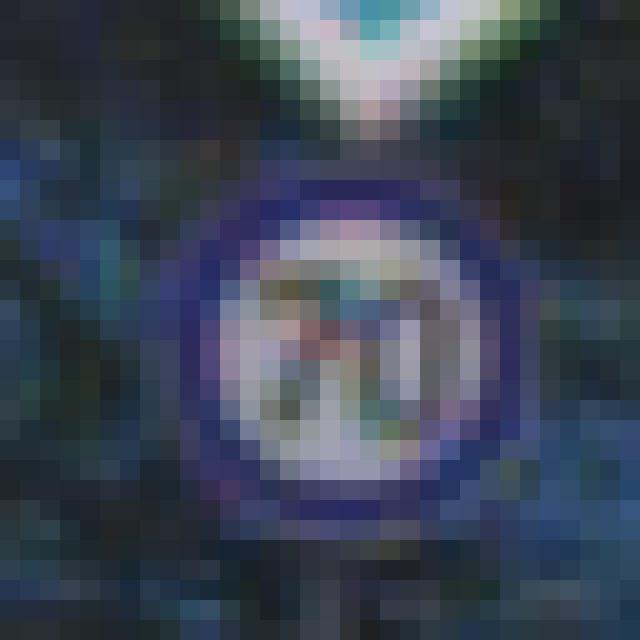SPEED LIMIT 70: (173, 184, 545, 554)
